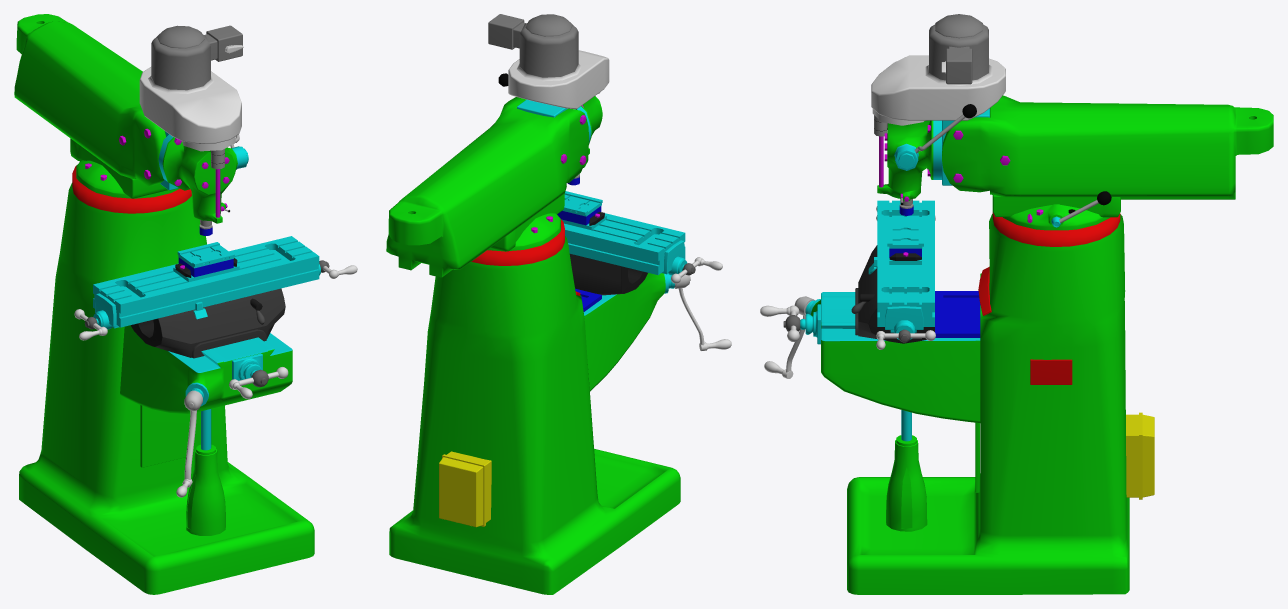
Rendered from BridgeportMillingMachine.fbx.
3 views of the same model, side by side, from view 1: azimuth 30°, elevation 25°; view 2: azimuth 150°, elevation 25°; view 3: azimuth 270°, elevation 25° (orthographic). The views are drawn at different scales.
Parts seen in each view (by area): view 1: Base, LeftSide_Spinning_Lever, Front_Spinning_Lever; view 2: Base, LeftSide_Spinning_Lever; view 3: Base.
Part boxes in pixels (x1,y1,x2,y2): Base: (14, 14, 329, 594); LeftSide_Spinning_Lever: (176, 410, 196, 497); Front_Spinning_Lever: (229, 367, 288, 399); Base: (386, 14, 695, 594); LeftSide_Spinning_Lever: (678, 288, 731, 350); Base: (783, 14, 1273, 594).
Bounding box in the file's own units: 3.7 × 6.47 × 5.65.
